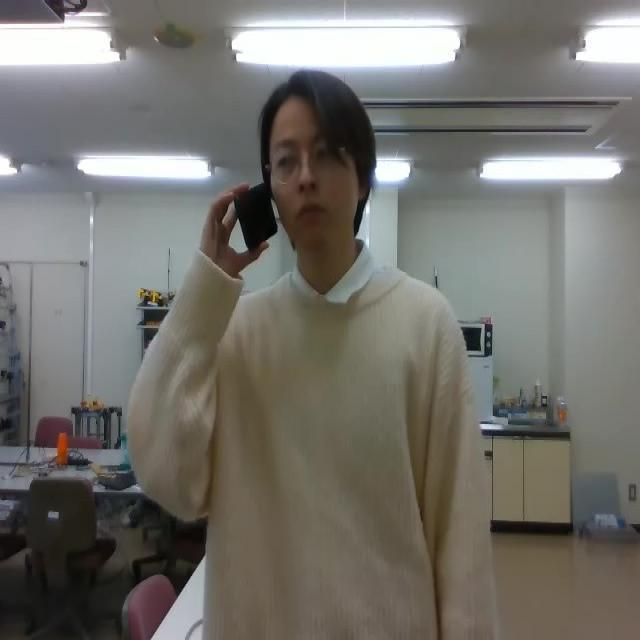Phone: (232, 178, 280, 254)
